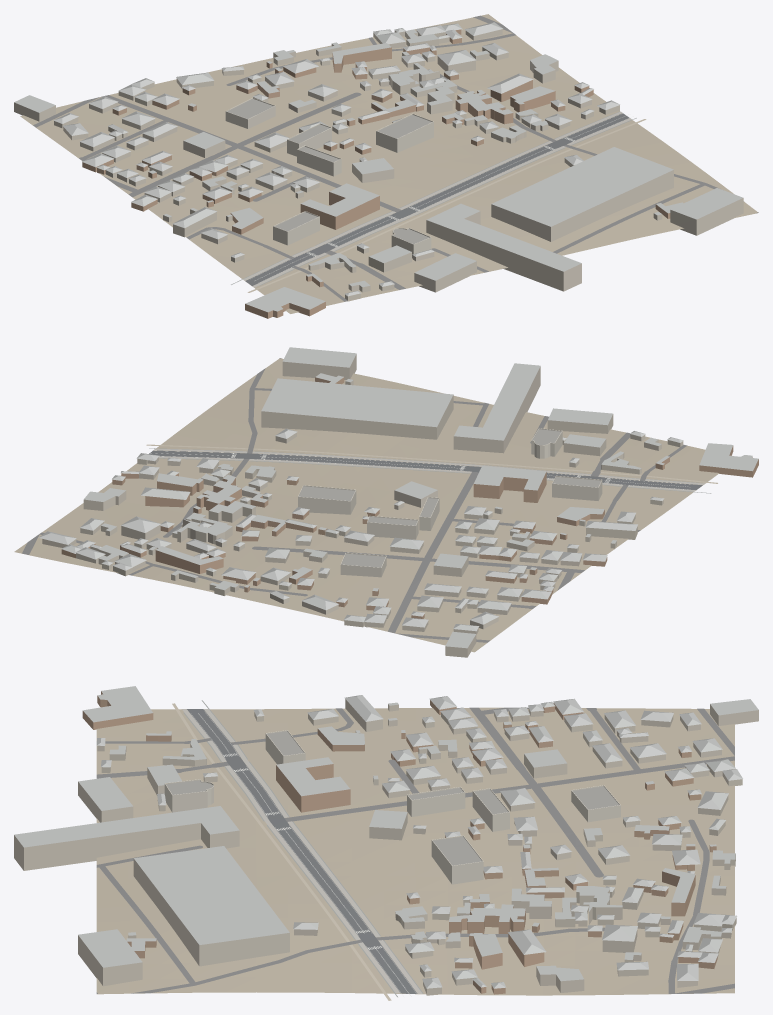
The model's file is bolak_-8_1.glb.
The picture shows the model from 3 angles, top to bottom: view 1: azimuth 30°, elevation 25°; view 2: azimuth 150°, elevation 25°; view 3: azimuth 270°, elevation 25°; orthographic projection. The views are drawn at different scales.
Visible parts, largest first — view 1: Yer_Tuproq-col, Tom_Shifer, Devor_Suvoq-col, Devor_Gisht-col, Yol_Mahalla-col, Devor_Jamoat-col, Yol_Asfalt-col, Tom_Tekis, Trotuar, Ariq, Yol_Piyoda; view 2: Yer_Tuproq-col, Tom_Shifer, Devor_Suvoq-col, Devor_Gisht-col, Yol_Mahalla-col, Devor_Jamoat-col, Yol_Asfalt-col, Tom_Tekis, Trotuar, Yol_Piyoda, Ariq; view 3: Yer_Tuproq-col, Tom_Shifer, Devor_Suvoq-col, Yol_Mahalla-col, Devor_Gisht-col, Devor_Jamoat-col, Yol_Asfalt-col, Tom_Tekis, Trotuar, Yol_Piyoda, Ariq, Yol_Chiziq.
Part boxes in pixels (x1,y1,x2,y2): Yer_Tuproq-col: (20,14,757,313); Tom_Shifer: (14,22,743,312); Devor_Suvoq-col: (14,29,743,301); Devor_Gisht-col: (82,29,670,318); Yol_Mahalla-col: (33,15,758,301); Devor_Jamoat-col: (225,98,433,258); Yol_Asfalt-col: (245,113,629,285); Tom_Tekis: (227,99,431,244); Trotuar: (243,111,631,287); Ariq: (231,111,636,285); Yol_Piyoda: (247,119,646,292); Yer_Tuproq-col: (14,358,731,652); Tom_Shifer: (39,347,758,648); Devor_Suvoq-col: (42,354,683,657); Devor_Gisht-col: (61,377,758,618); Yol_Mahalla-col: (22,358,686,642); Devor_Jamoat-col: (298,428,602,577); Yol_Asfalt-col: (149,450,702,489); Tom_Tekis: (299,429,601,567); Trotuar: (153,448,704,491); Yol_Piyoda: (146,444,717,483); Ariq: (149,448,711,493); Yer_Tuproq-col: (96,707,734,995); Tom_Shifer: (14,686,758,988); Devor_Suvoq-col: (14,699,758,995); Yol_Mahalla-col: (96,707,734,993); Devor_Gisht-col: (82,691,717,994); Devor_Jamoat-col: (164,730,620,884); Yol_Asfalt-col: (187,709,417,993); Tom_Tekis: (166,731,618,865); Trotuar: (182,709,422,993); Yol_Piyoda: (172,703,391,1000); Ariq: (183,700,423,997); Yol_Chiziq: (192,712,417,996).
Size of what is drawn, in the model's own units: 435 by 22.51 by 467.
